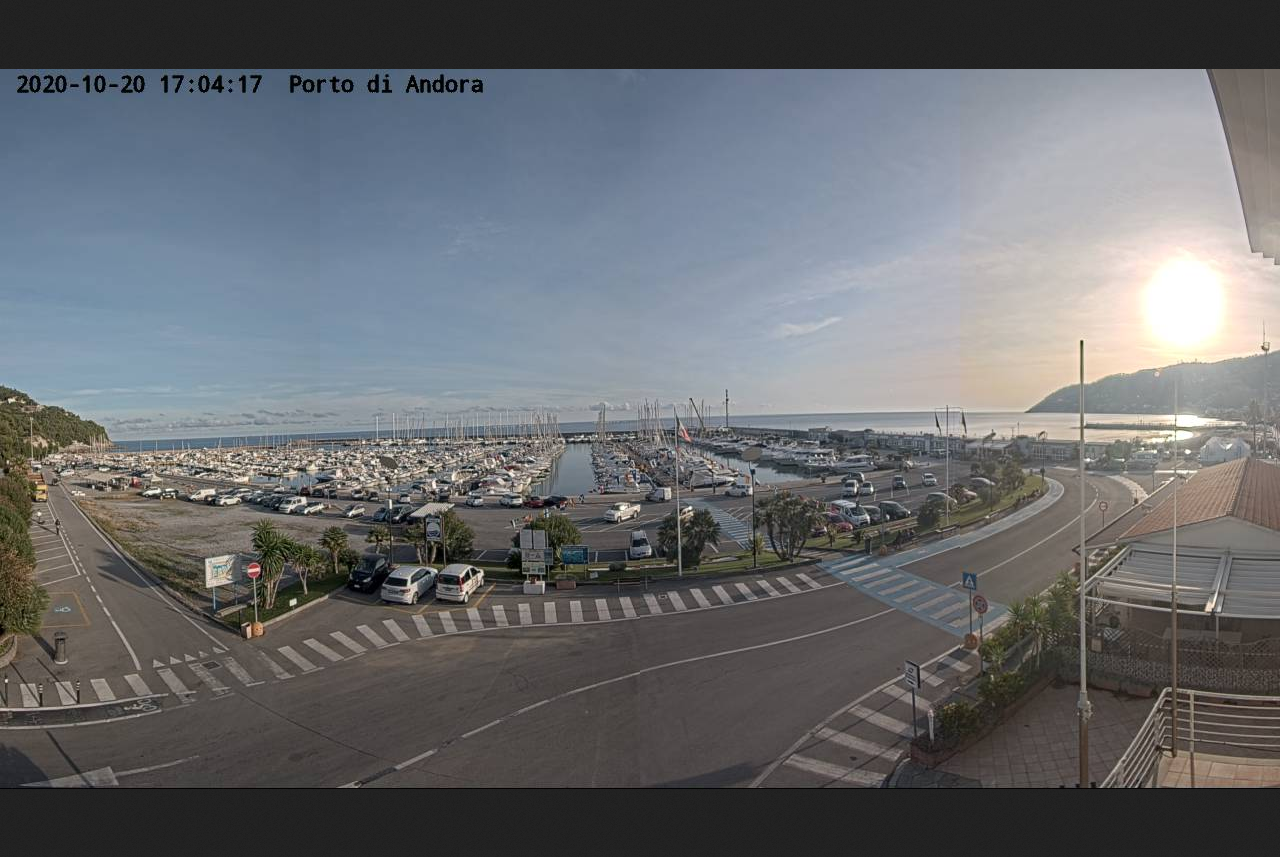no: (671, 407, 698, 447), (956, 406, 971, 436), (931, 408, 945, 436)
